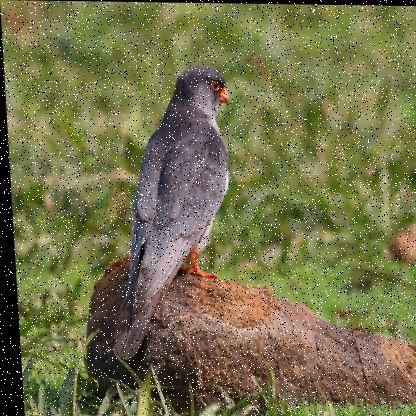Burung: (93, 62, 242, 362)
